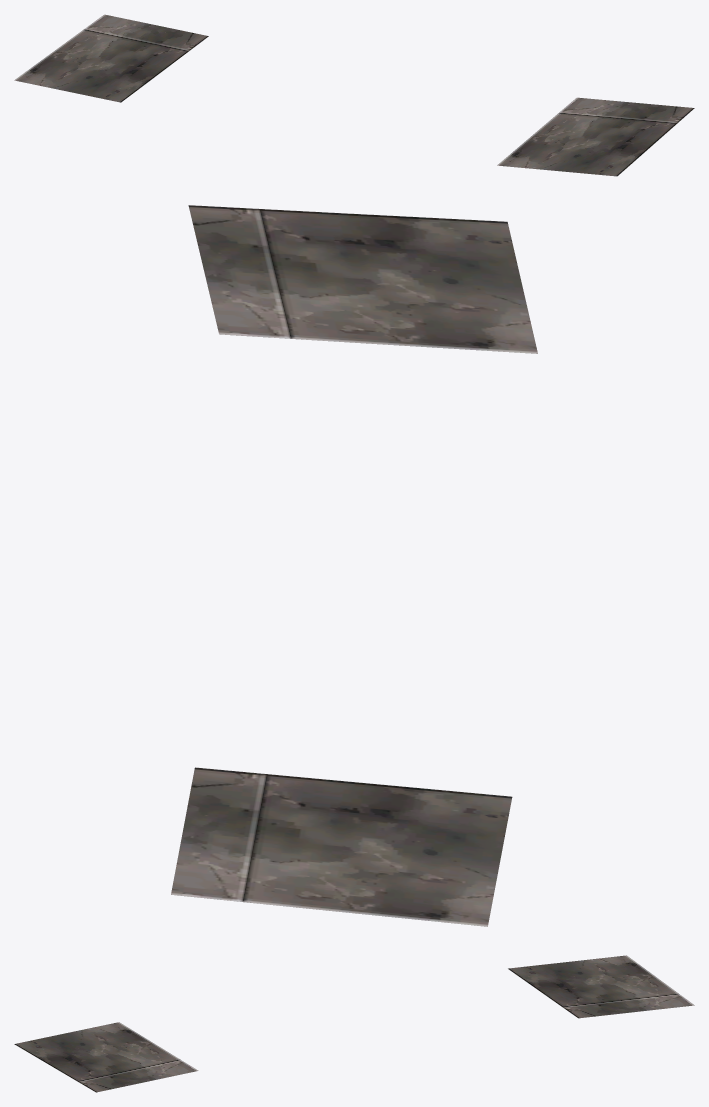
Rendered from CH09_SMAUG_PLAYSURFACE_LAIR136.fbx.
3 renders of one model, top to bottom at view 1: azimuth 30°, elevation 25°; view 2: azimuth 150°, elevation 25°; view 3: azimuth 270°, elevation 25°, orthographic. The views are drawn at different scales.
Parts seen in each view (by area): view 1: CH09_SMAUG_PLAYSURFACE_LAIR136; view 2: CH09_SMAUG_PLAYSURFACE_LAIR136; view 3: CH09_SMAUG_PLAYSURFACE_LAIR136.
Boxes of the visible parts, x1,y1,x2,y2 form: CH09_SMAUG_PLAYSURFACE_LAIR136: [14, 14, 694, 176]; CH09_SMAUG_PLAYSURFACE_LAIR136: [171, 205, 537, 926]; CH09_SMAUG_PLAYSURFACE_LAIR136: [14, 955, 694, 1092].
Size of the model in its own units: 43969 by 6618 by 62476.
1 material, 1 textured.
